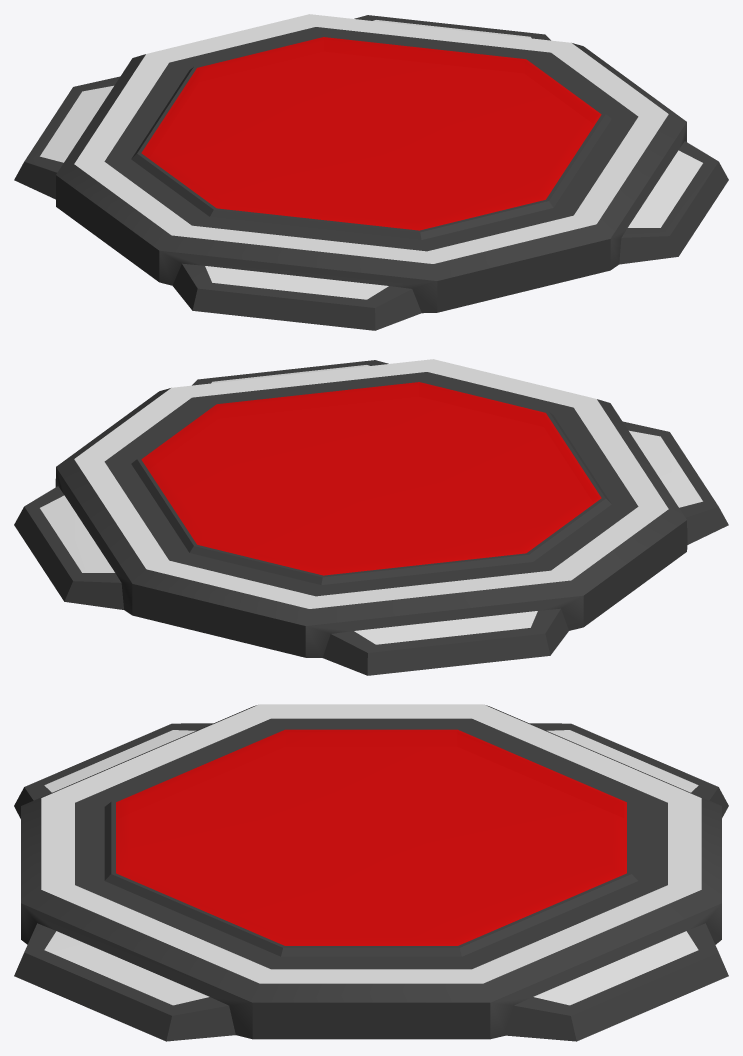
File: preasure plate.fbx
3 views of the same model, one above another, from view 1: azimuth 30°, elevation 25°; view 2: azimuth 150°, elevation 25°; view 3: azimuth 270°, elevation 25° (orthographic). The views are drawn at different scales.
Parts seen in each view (by area): view 1: pCube1, pCube6; view 2: pCube1, pCube6; view 3: pCube1, pCube6.
Part boxes in pixels (<box>): pCube1: <box>14,14,728,330</box>; pCube6: <box>141,37,601,230</box>; pCube1: <box>14,359,728,675</box>; pCube6: <box>141,382,601,575</box>; pCube1: <box>14,704,728,1041</box>; pCube6: <box>116,729,626,945</box>.
Size of the model in its own units: 53.58 by 4.6 by 53.78.
